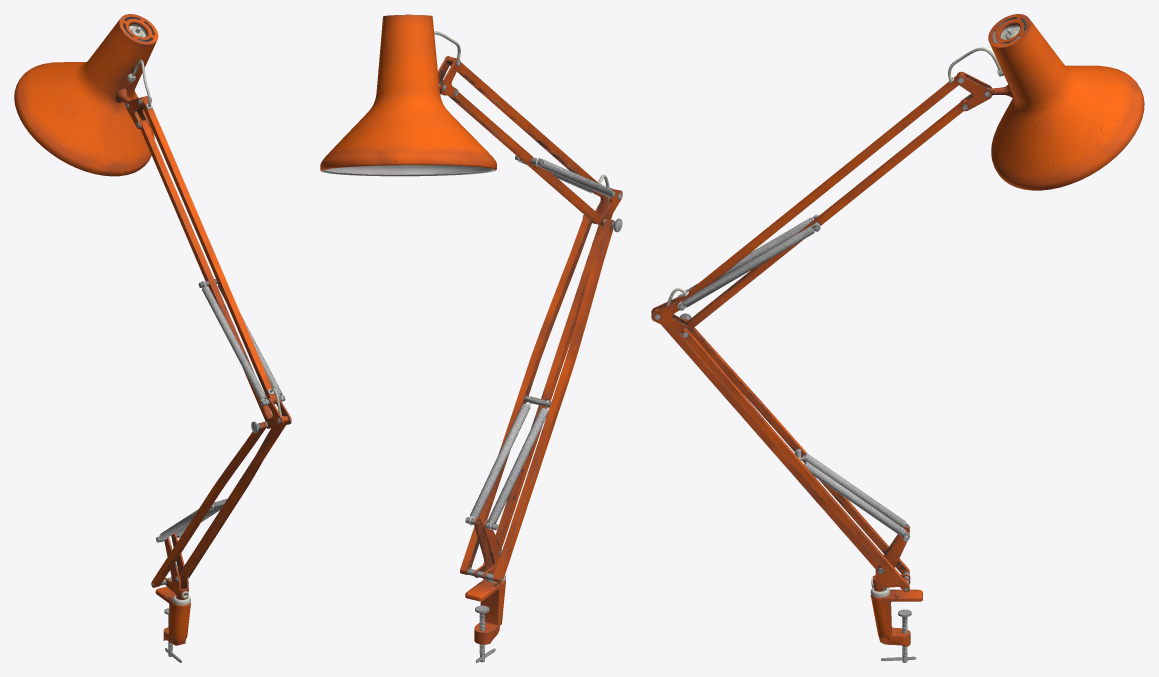
File: clamp-mounted-desk-lamp.glb
3 views of the same model, side by side, from view 1: azimuth 30°, elevation 25°; view 2: azimuth 150°, elevation 25°; view 3: azimuth 270°, elevation 25° (orthographic). The views are drawn at different scales.
Visible parts, largest first — view 1: desk_lamp_arm_01; view 2: desk_lamp_arm_01; view 3: desk_lamp_arm_01.
Boxes of the visible parts, left/top/right/bottom form: desk_lamp_arm_01: left=14, top=14, right=291, bottom=662; desk_lamp_arm_01: left=320, top=14, right=622, bottom=662; desk_lamp_arm_01: left=651, top=14, right=1144, bottom=662.
Size of the model in its own units: 0.2017 by 0.8926 by 0.6139.
2 materials, 2 textured.
